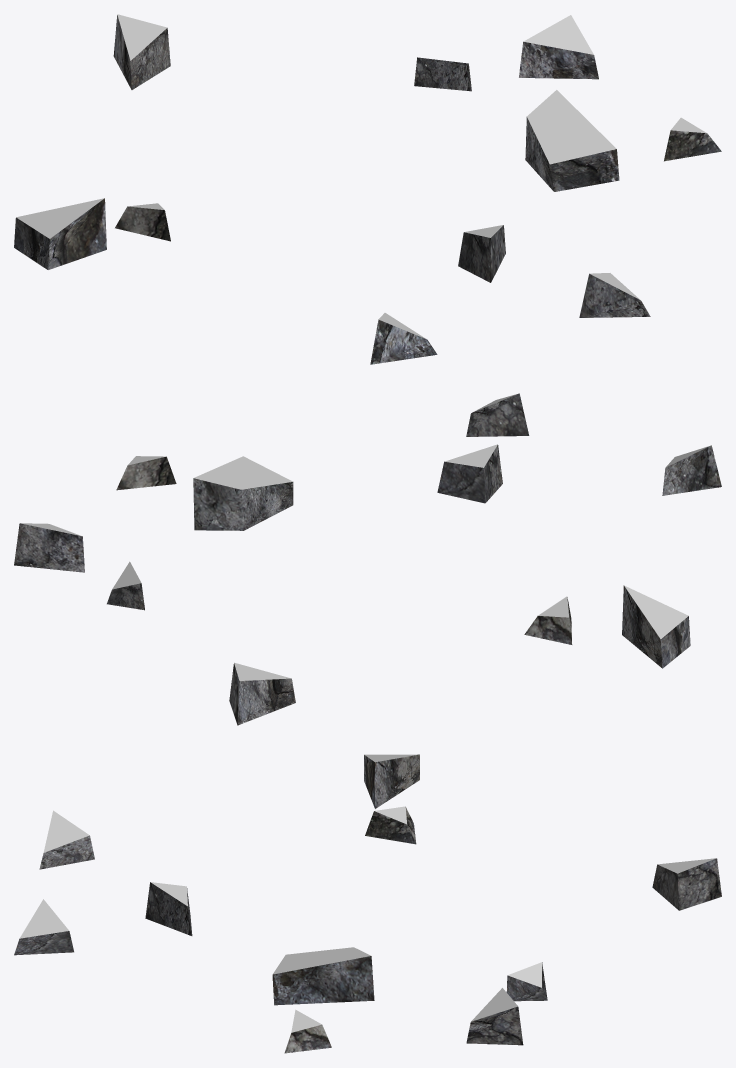
Rendered from Debris_small1_LOD1.fbx.
3 renders of one model, top to bottom at view 1: azimuth 30°, elevation 25°; view 2: azimuth 150°, elevation 25°; view 3: azimuth 270°, elevation 25°, orthographic. The views are drawn at different scales.
Visible parts, largest first — view 1: polySurface64; view 2: polySurface64; view 3: polySurface64.
Part boxes in pixels (x1,y1,x2,y2): polySurface64: (14, 14, 721, 364); polySurface64: (14, 393, 721, 725); polySurface64: (14, 754, 721, 1053).
Bounding box in the file's own units: 1.91 × 0.1605 × 2.1.
